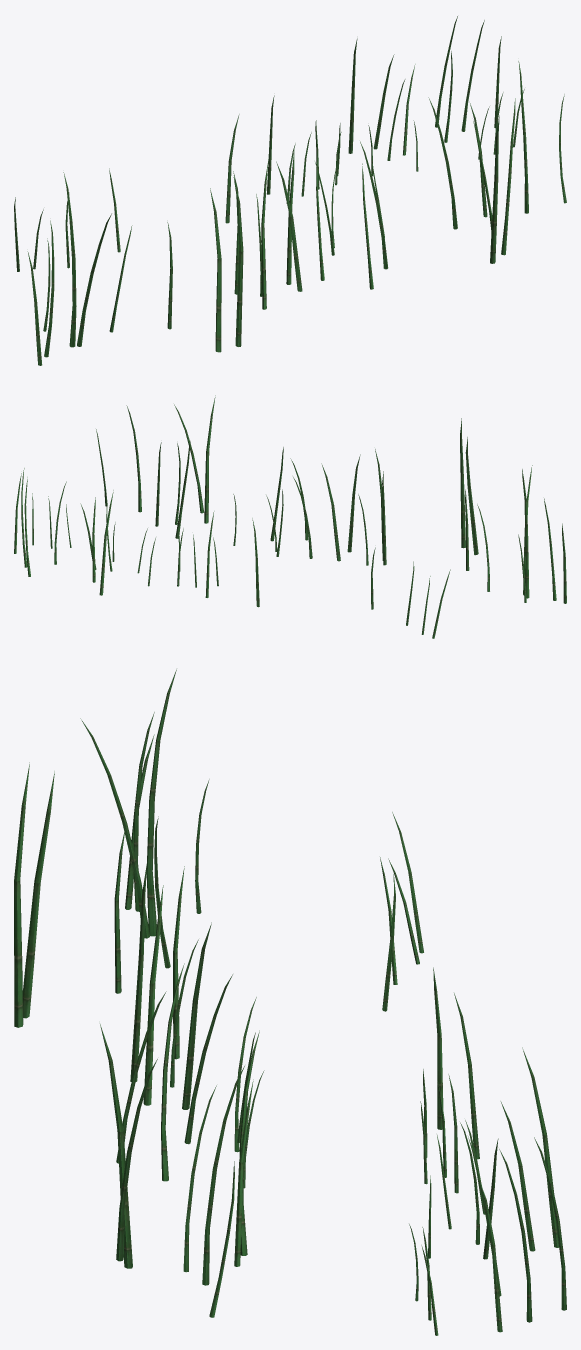
File: Area_10_28.fbx
The picture shows the model from 3 angles, top to bottom: view 1: azimuth 30°, elevation 25°; view 2: azimuth 150°, elevation 25°; view 3: azimuth 270°, elevation 25°; orthographic projection. The views are drawn at different scales.
Visible parts, largest first — view 1: Area_10_28; view 2: Area_10_28; view 3: Area_10_28.
Part boxes in pixels (bbox=[...]): Area_10_28: bbox=[14, 16, 566, 365]; Area_10_28: bbox=[14, 395, 566, 638]; Area_10_28: bbox=[14, 669, 566, 1335].
Size of the model in its own units: 8644 by 2584 by 4545.
